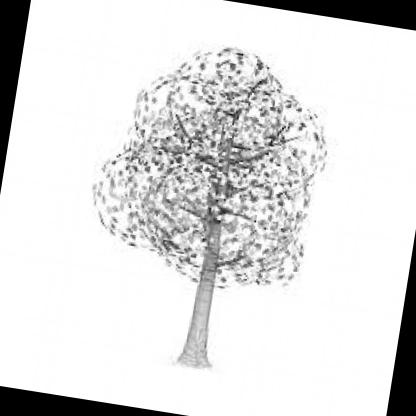crown_cloud: (82, 31, 342, 294)
trunk_bark: (180, 286, 218, 358)
